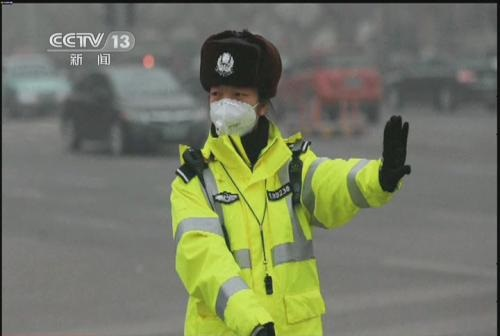face_mask: (210, 76, 260, 132)
